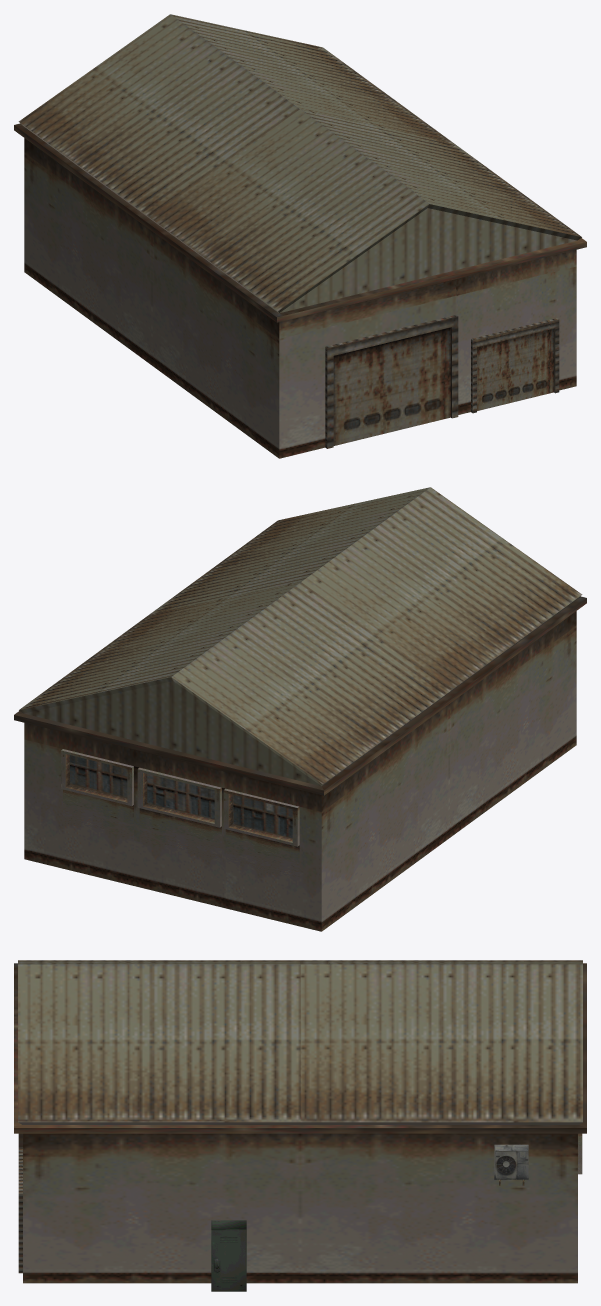
Rendered from 01_building_a.glb.
3 renders of one model, top to bottom at view 1: azimuth 30°, elevation 25°; view 2: azimuth 150°, elevation 25°; view 3: azimuth 270°, elevation 25°, orthographic. The views are drawn at different scales.
Parts seen in each view (by area): view 1: Building01; view 2: Building01; view 3: Building01, ElectricalPanel, Ventilation_1.
Boxes of the visible parts, <box> form: Building01: <box>14,14,586,458</box>; Building01: <box>14,487,586,931</box>; Building01: <box>14,960,586,1283</box>; ElectricalPanel: <box>211,1220,246,1291</box>; Ventilation_1: <box>494,1144,528,1185</box>.
Bounding box in the file's own units: 17.54 × 11.55 × 24.99.
Materials: 3 (3 with a texture image).
